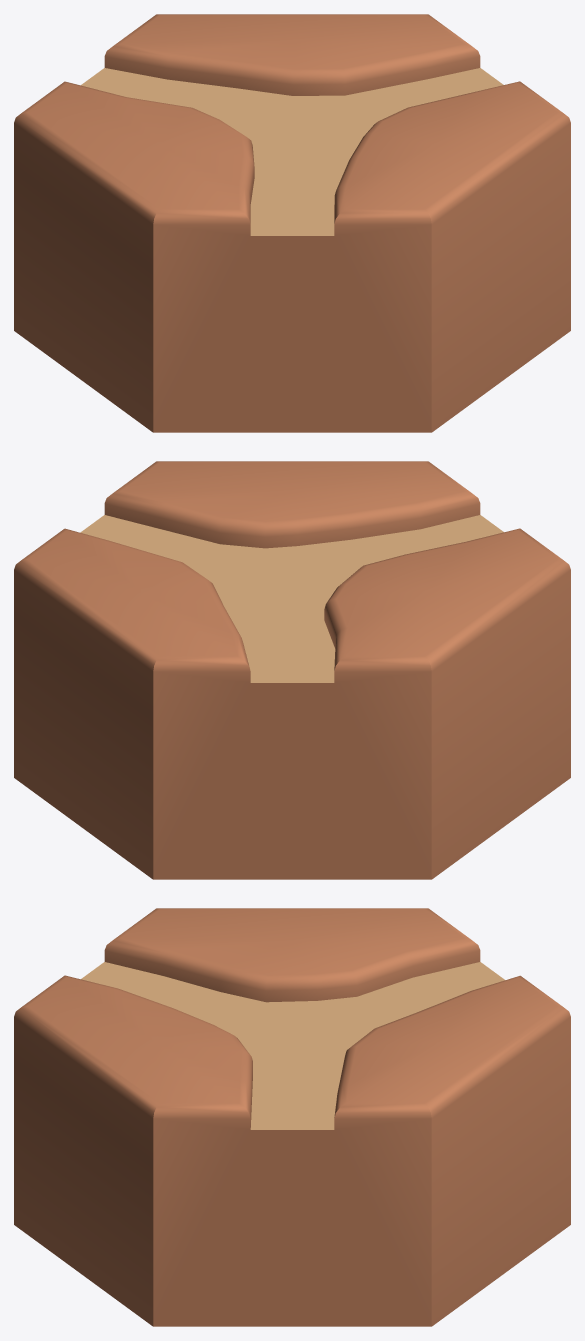
The model's file is hex_rock_roadG.glb.
3 renders of one model, top to bottom at view 1: azimuth 30°, elevation 25°; view 2: azimuth 150°, elevation 25°; view 3: azimuth 270°, elevation 25°, orthographic.
Parts seen in each view (by area): view 1: hex_rock_roadG; view 2: hex_rock_roadG; view 3: hex_rock_roadG.
Boxes of the visible parts, <box> form: hex_rock_roadG: <box>14,14,570,432</box>; hex_rock_roadG: <box>14,461,570,879</box>; hex_rock_roadG: <box>14,908,570,1326</box>.
Size of the model in its own units: 2 by 1 by 2.31.
